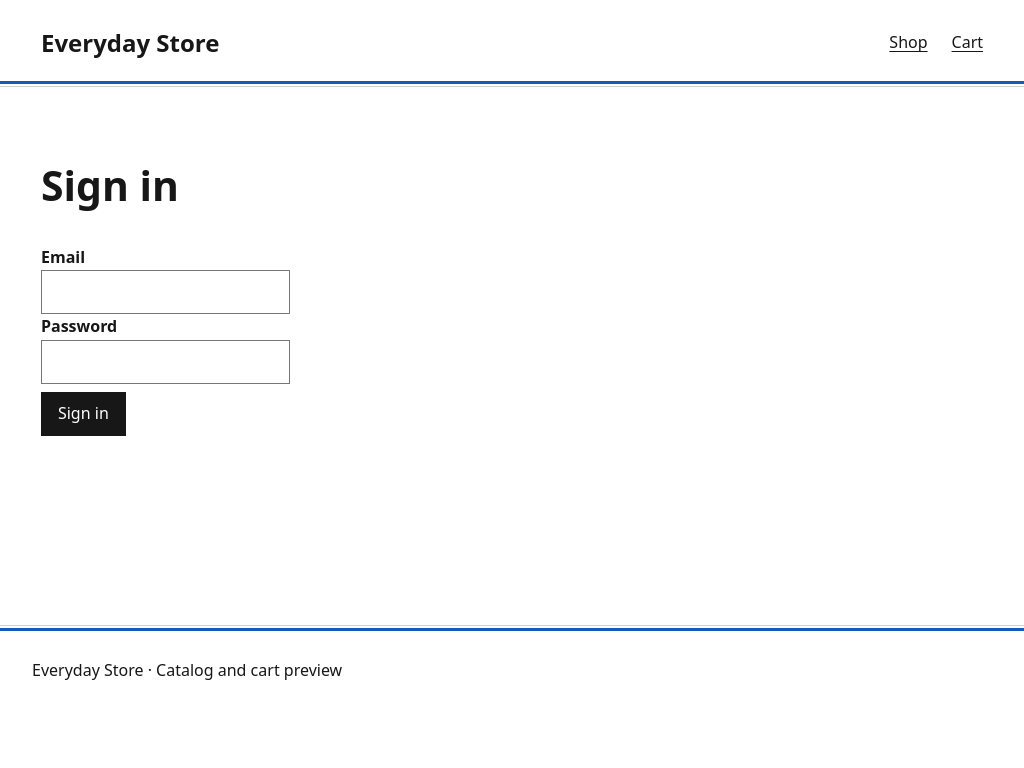
Test: storefront composition › rejects invalid credentials without claiming a successful session
The image size is (1024, 768).
Type "customer@example.com" into the field labelled "Email" at [166, 292], box [41, 270, 290, 314]
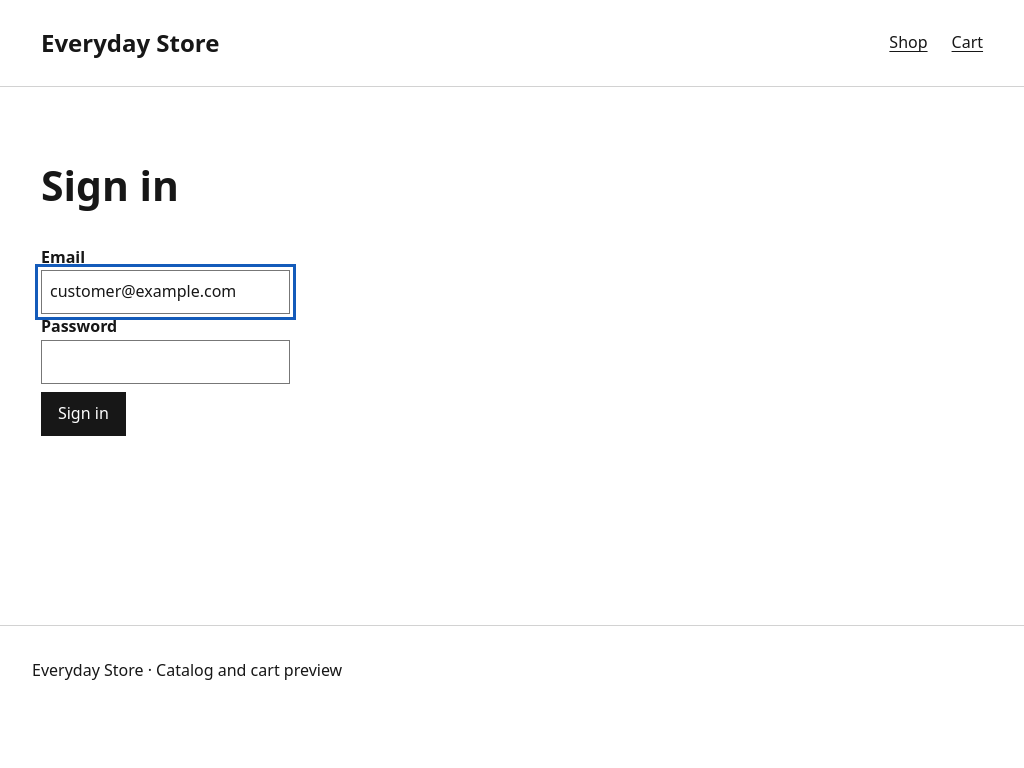
Type "wrong-password" into the password field labelled "Password" at [166, 362], box [41, 340, 290, 384]
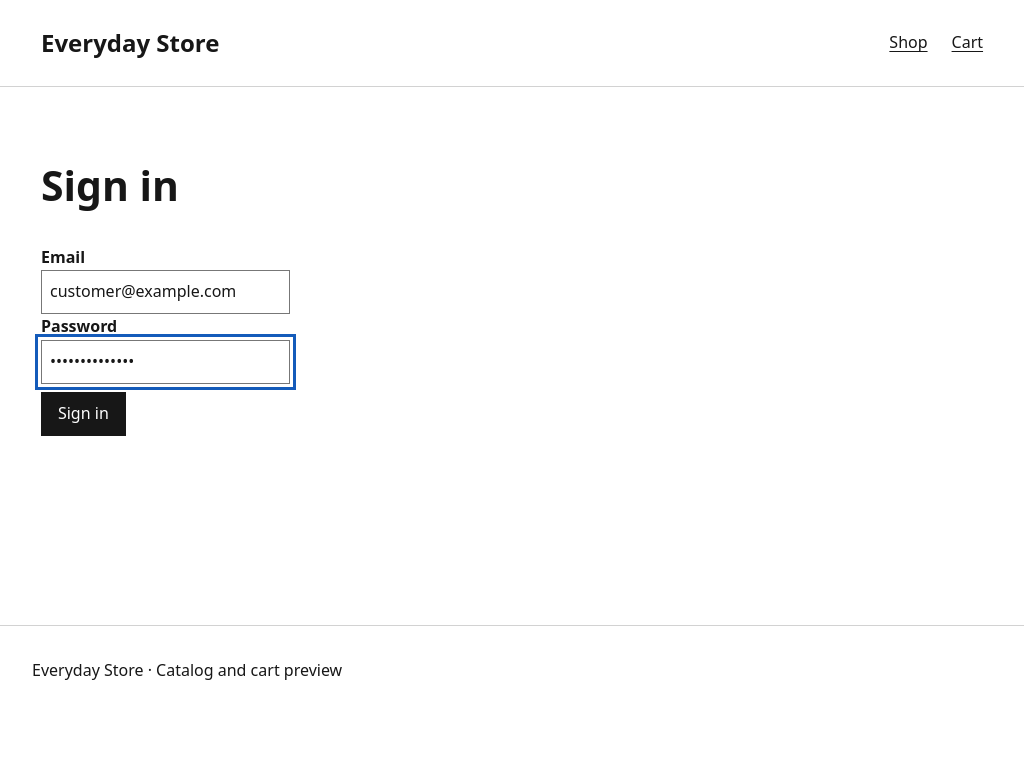
Click the button "Sign in" at [83, 414], box [41, 392, 126, 436]
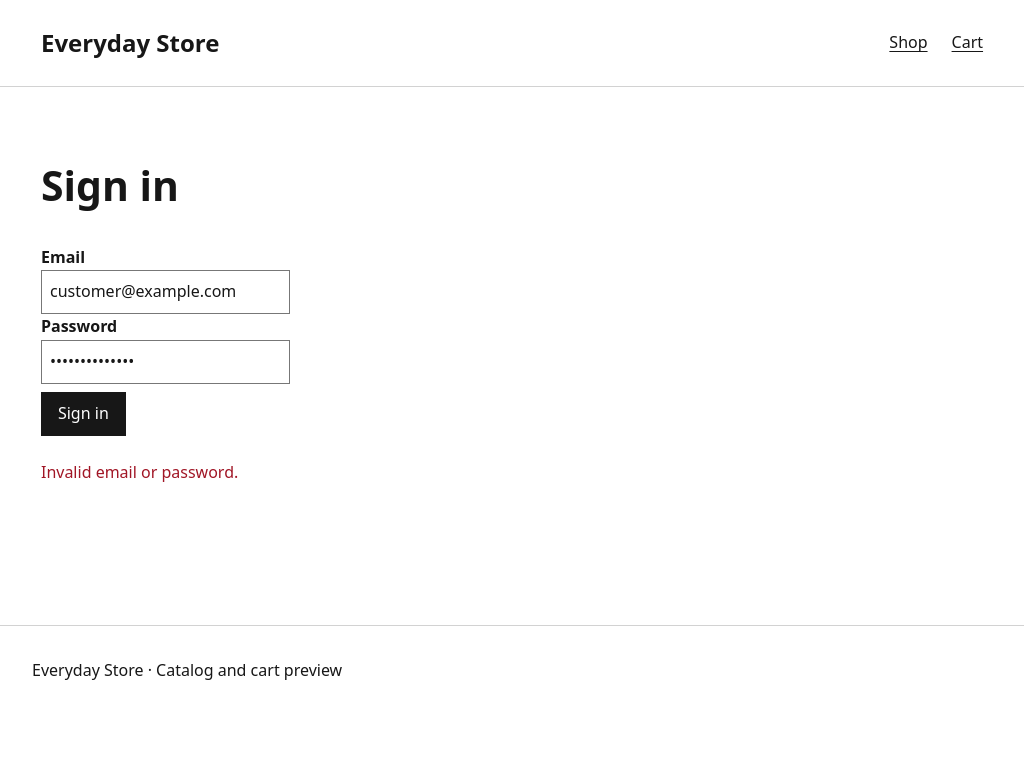
Expected: the heading "Sign in" is shown, [41, 157, 179, 213]
Result: the message reads "Invalid email or password." at [41, 461, 238, 483]
